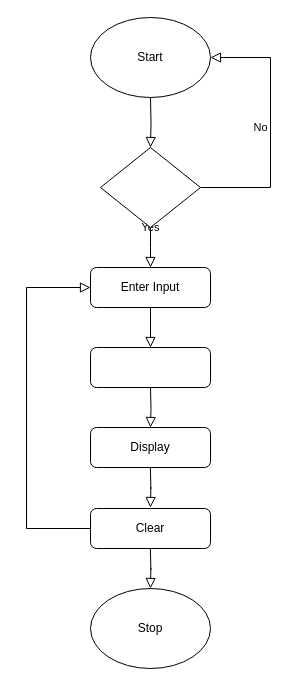
Some shapes in this 298 by 686 pixel diagram are drawn without their labels. Here are the shapes that lost their labels. From the top down, the centre of each, then its label:
At pixel 150 187: "On/Off".
At pixel 150 367: "Calculate".
